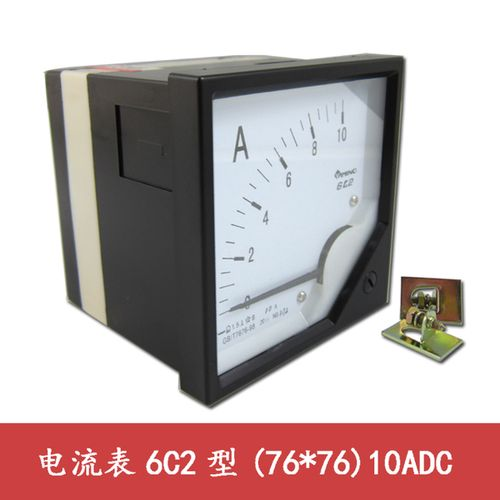pointer: (209, 78, 385, 378)
